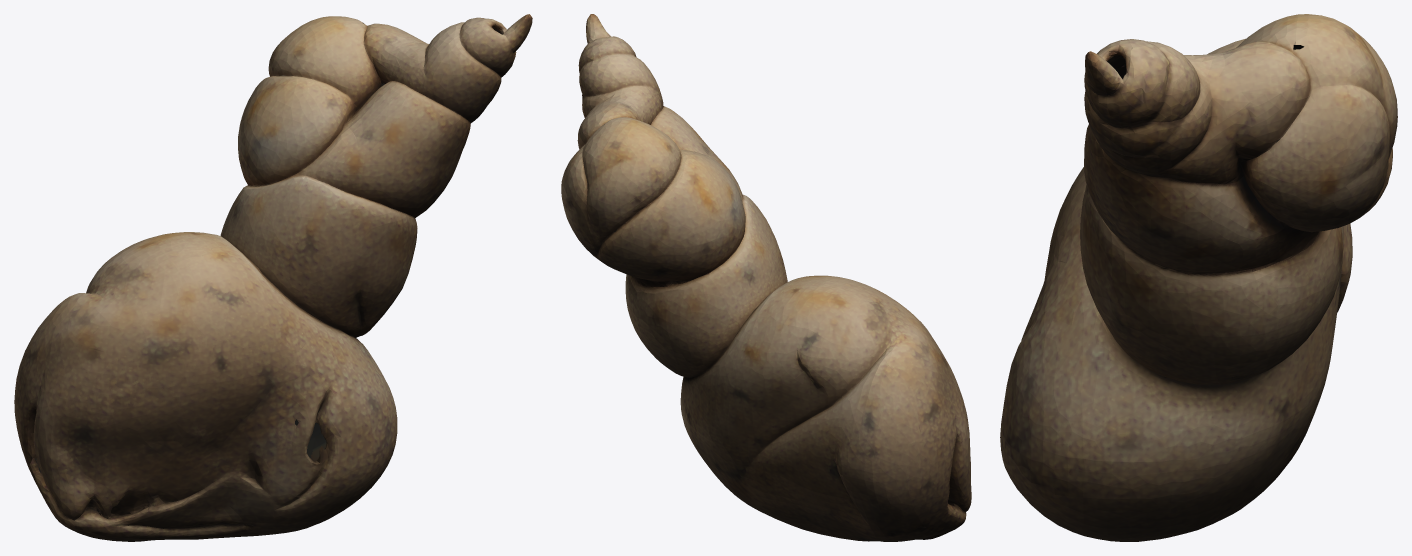
3 views of the same model, side by side, from view 1: azimuth 30°, elevation 25°; view 2: azimuth 150°, elevation 25°; view 3: azimuth 270°, elevation 25° (orthographic). The views are drawn at different scales.
Visible parts, largest first — view 1: world; view 2: world; view 3: world.
Part boxes in pixels (left/top/right/bottom): world: left=14, top=14, right=532, bottom=541; world: left=561, top=14, right=971, bottom=541; world: left=1000, top=14, right=1397, bottom=541.
Size of the model in its own units: 0.0564 by 0.0554 by 0.031.
1 material, 1 textured.
